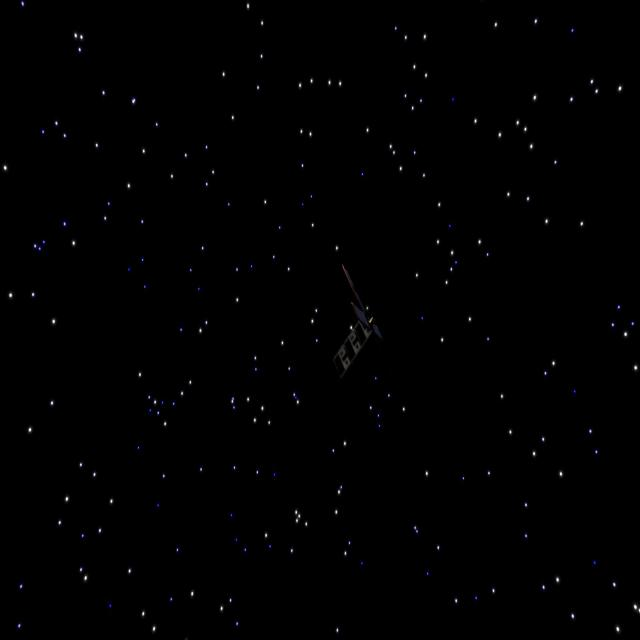medium_debris: (320, 257, 387, 389)
